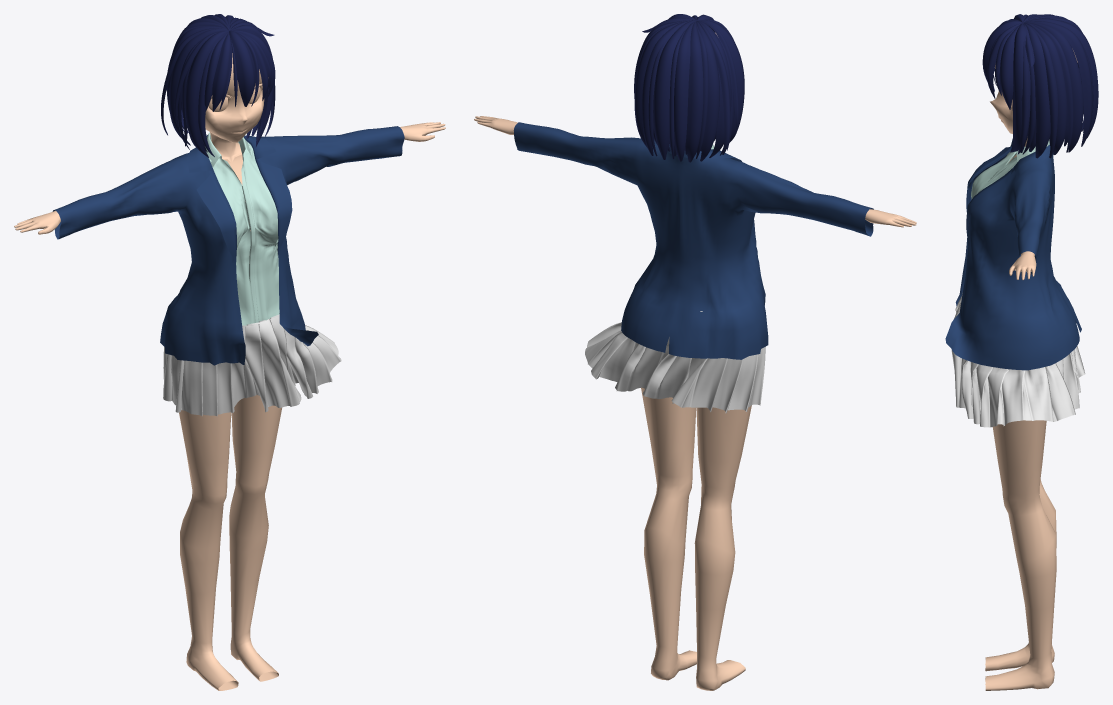
The picture shows the model from 3 angles, left to right: view 1: azimuth 30°, elevation 25°; view 2: azimuth 150°, elevation 25°; view 3: azimuth 270°, elevation 25°; orthographic projection. The views are drawn at different scales.
Parts seen in each view (by area): view 1: シャツ; view 2: シャツ; view 3: シャツ.
Part boxes in pixels (<box>): シャツ: <box>14,14,445,690</box>; シャツ: <box>474,14,916,690</box>; シャツ: <box>945,14,1098,690</box>.
Bounding box in the file's own units: 1371 × 1964 × 414.
